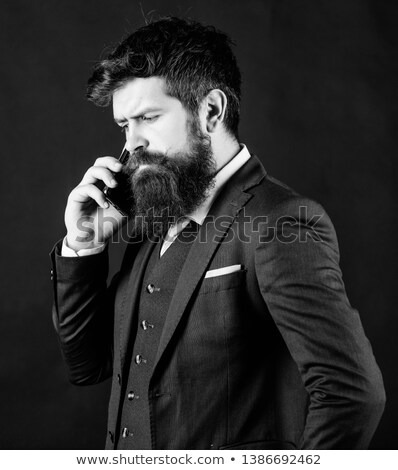phone: (94, 142, 143, 225)
talk: (67, 96, 199, 238)
